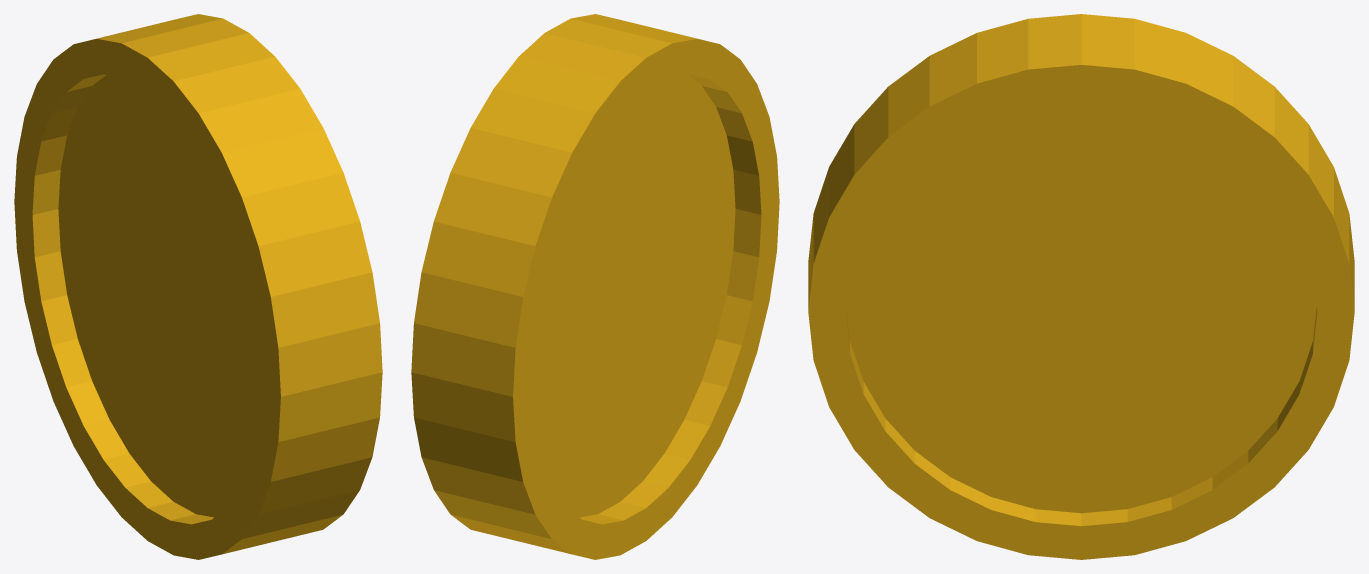
Rendered from Coin.fbx.
The picture shows the model from 3 angles, left to right: view 1: azimuth 30°, elevation 25°; view 2: azimuth 150°, elevation 25°; view 3: azimuth 270°, elevation 25°; orthographic projection. The views are drawn at different scales.
Parts seen in each view (by area): view 1: Cylinder; view 2: Cylinder; view 3: Cylinder.
Boxes of the visible parts, x1,y1,x2,y2 form: Cylinder: (14,14,382,559); Cylinder: (411,14,779,559); Cylinder: (808,14,1354,559).
Size of the model in its own units: 44.04 by 200 by 200.
